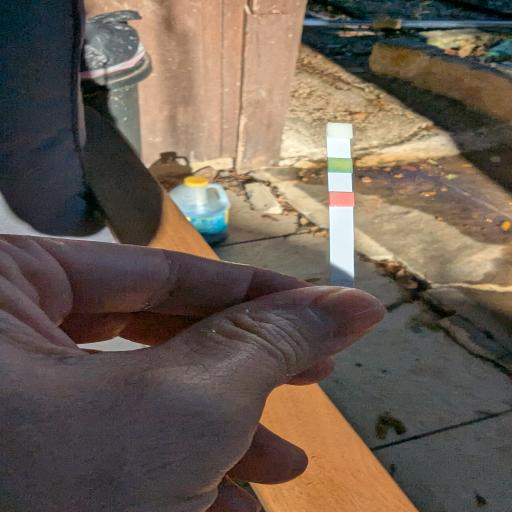strip: (327, 122, 355, 288)
